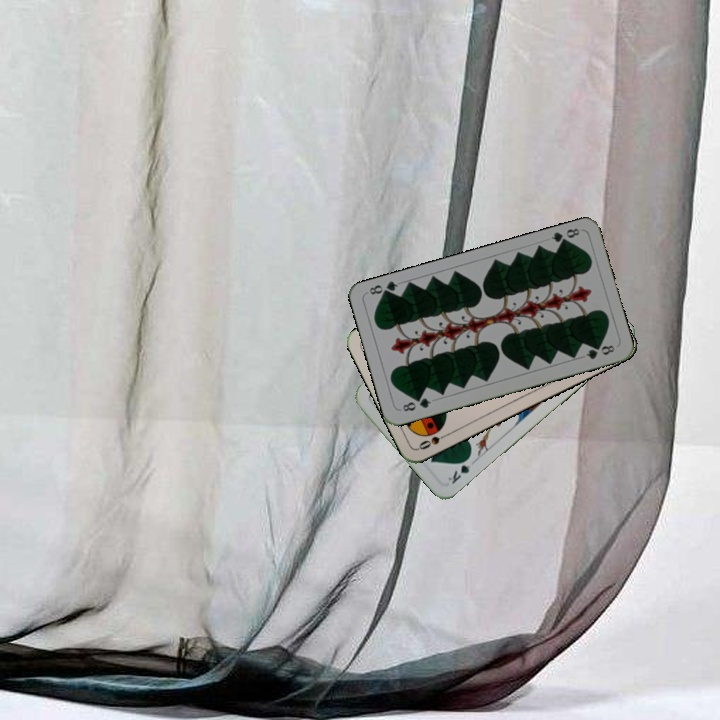G8: (547, 224, 582, 249), (397, 394, 434, 414)
GK: (443, 452, 478, 487)
SO: (414, 428, 453, 452)
